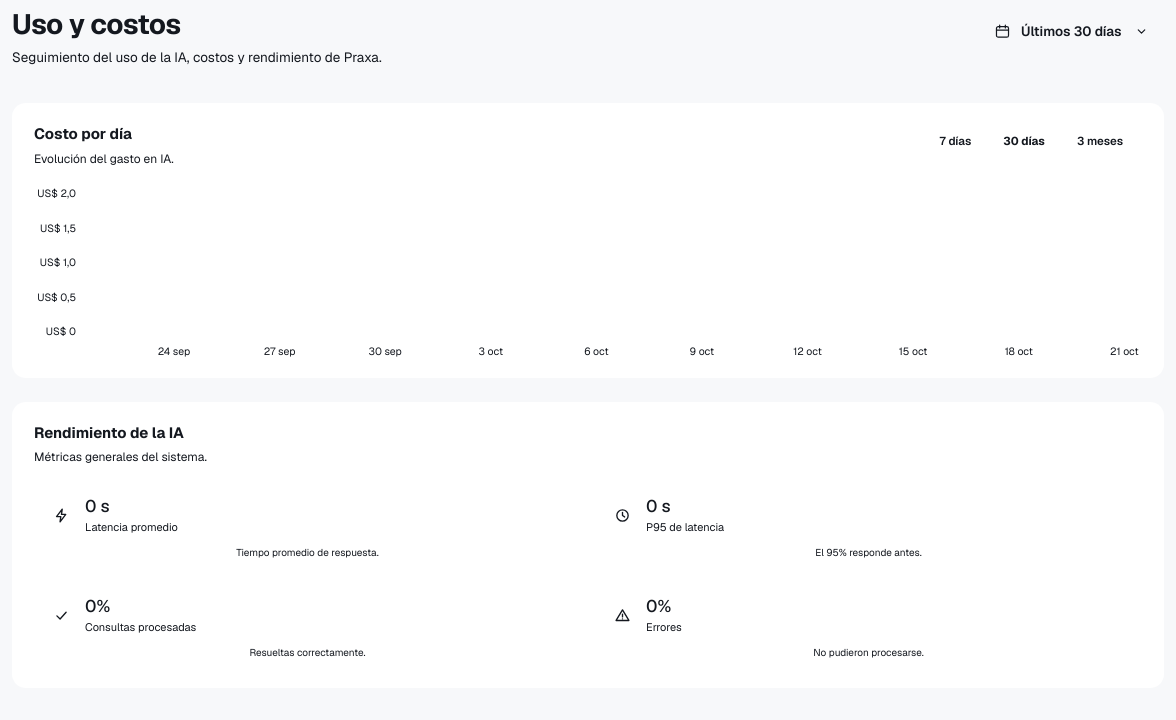
Test case: Uso y costos › el desplegable y el control segmentado comparten el rango
Click the button "Últimos 30 días". click: click(1071, 31)
box: [978, 8, 1164, 54]
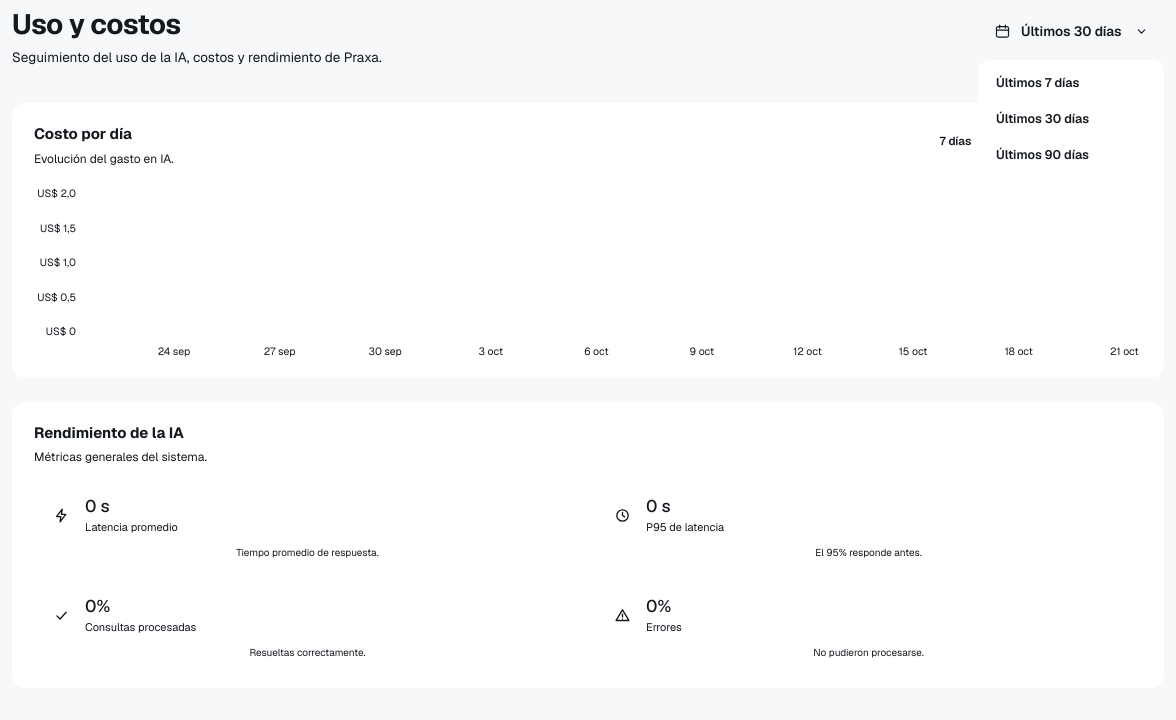
Click the option "Últimos 7 días". click: click(1038, 82)
box: [996, 74, 1079, 91]
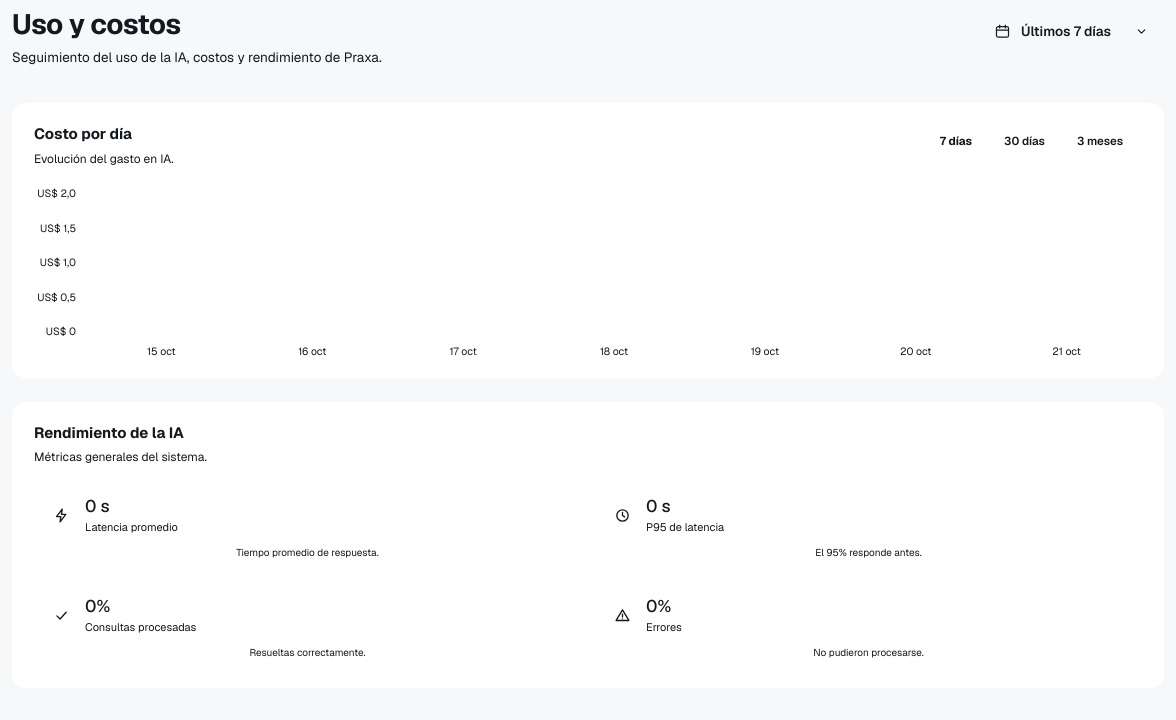
Check: the button named "Últimos 30 días" is collapsed, box [978, 8, 1164, 54]
Check: the button named "Últimos 30 días" reads "Últimos 7 días", box [978, 8, 1164, 54]
Click the button "3 meses". click: click(1100, 140)
box: [1061, 126, 1139, 154]
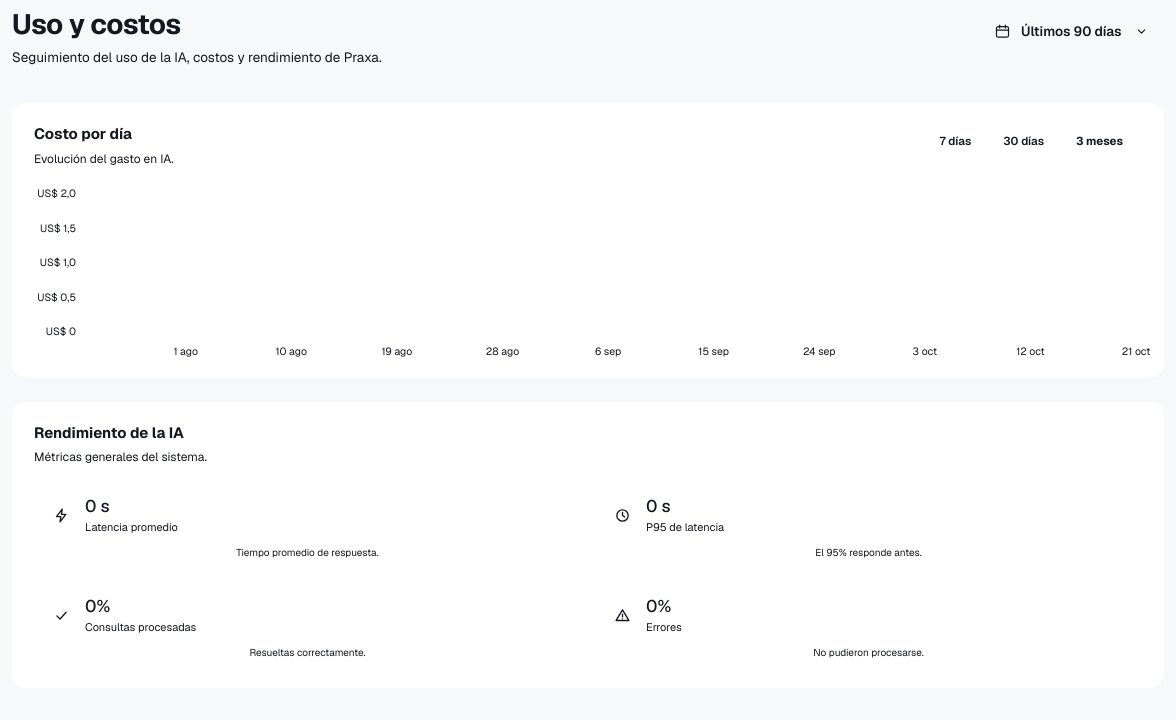
Check: the button named "Últimos 30 días" reads "Últimos 90 días", box [978, 8, 1164, 54]
